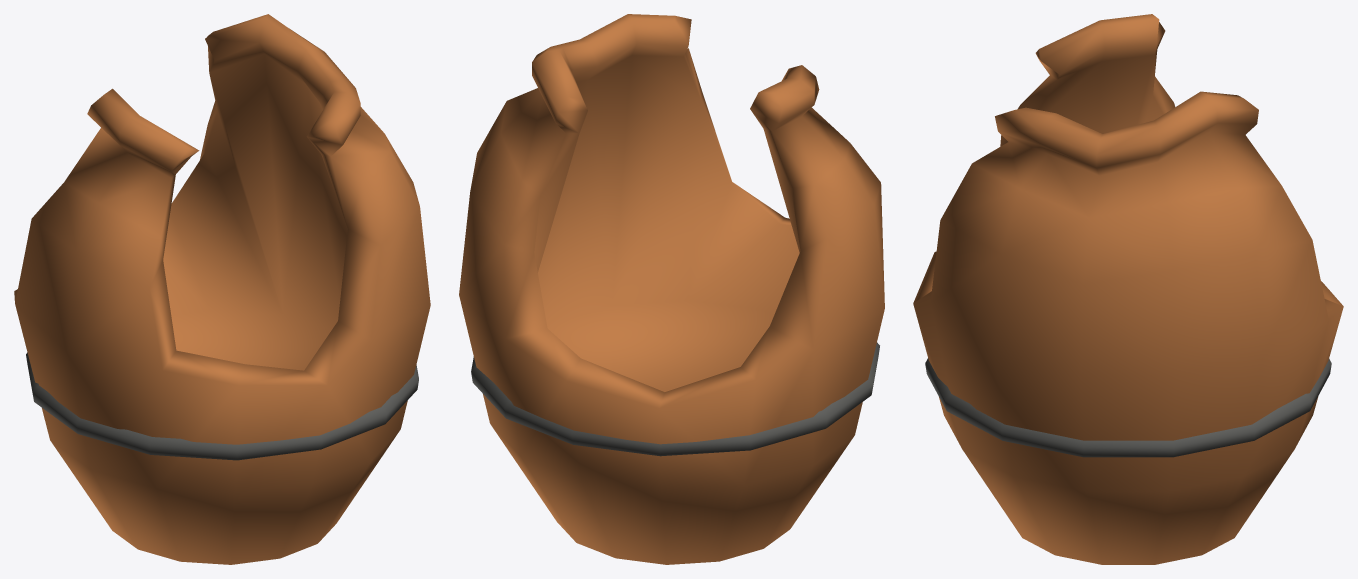
The model's file is rpgpp_av_food_container_02b.gltf.
The picture shows the model from 3 angles, left to right: view 1: azimuth 30°, elevation 25°; view 2: azimuth 150°, elevation 25°; view 3: azimuth 270°, elevation 25°; orthographic projection. The views are drawn at different scales.
Visible parts, largest first — view 1: rpgpp_av_food_container_02b; view 2: rpgpp_av_food_container_02b; view 3: rpgpp_av_food_container_02b.
Part boxes in pixels (box(x1,y1,x2,y2)): rpgpp_av_food_container_02b: box(14, 14, 430, 564); rpgpp_av_food_container_02b: box(459, 14, 884, 564); rpgpp_av_food_container_02b: box(913, 14, 1343, 564).
Size of the model in its own units: 0.0103 by 0.0126 by 0.0106.
1 material, 1 textured.
